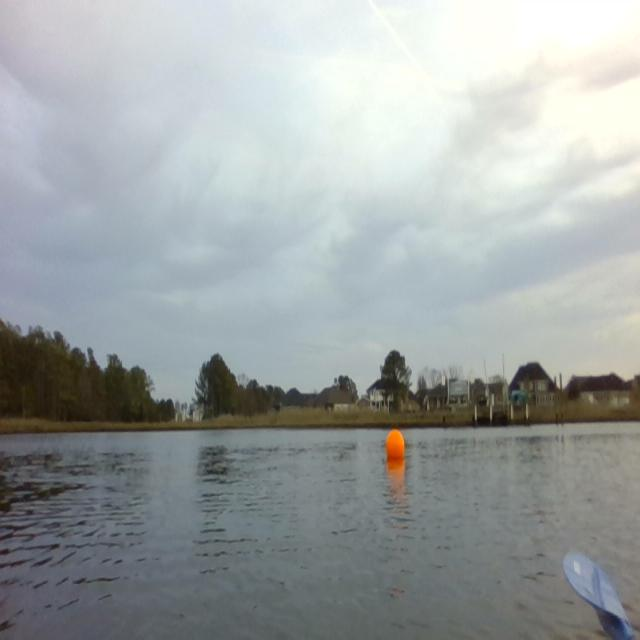Buoy: (385, 428, 405, 463)
